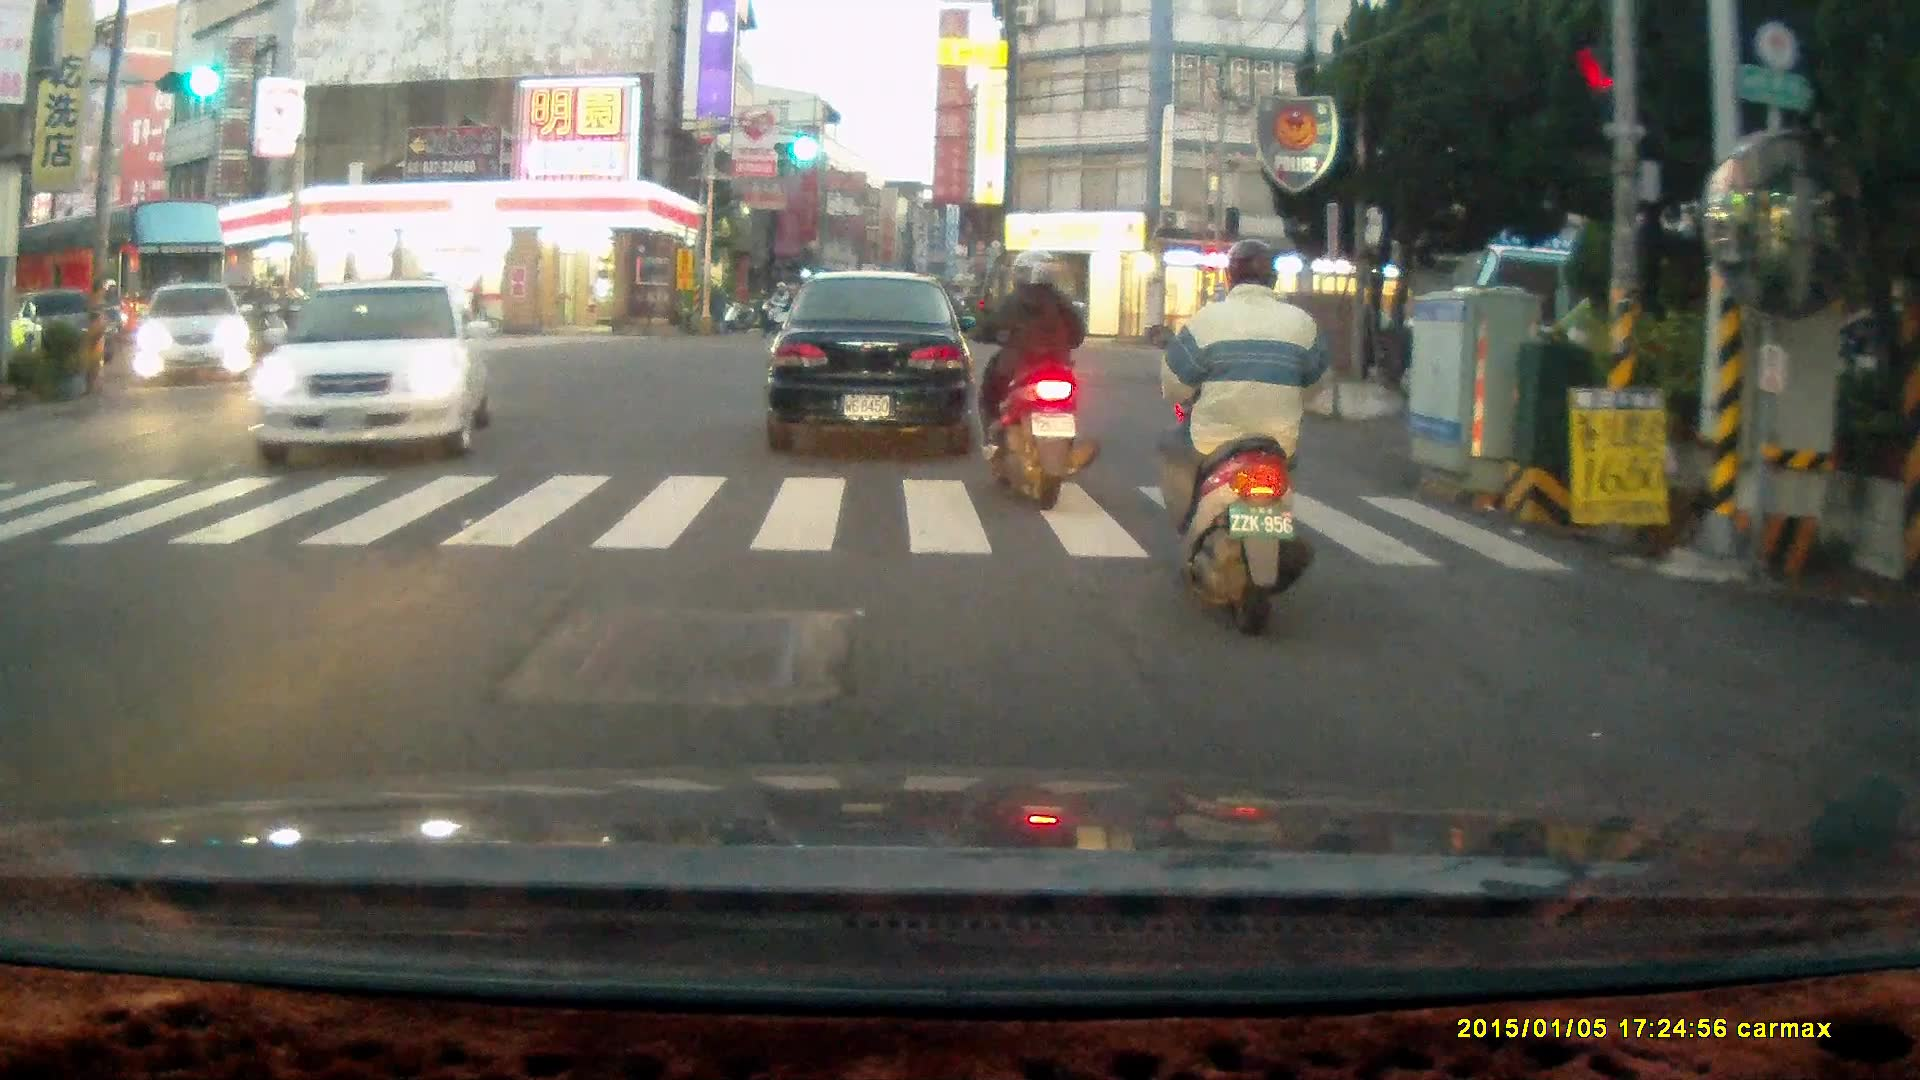rider: (1142, 236, 1327, 640), (962, 245, 1098, 510), (236, 277, 291, 369)
vehicle: (246, 279, 497, 471), (763, 272, 978, 460), (23, 202, 233, 354), (135, 282, 255, 386)
